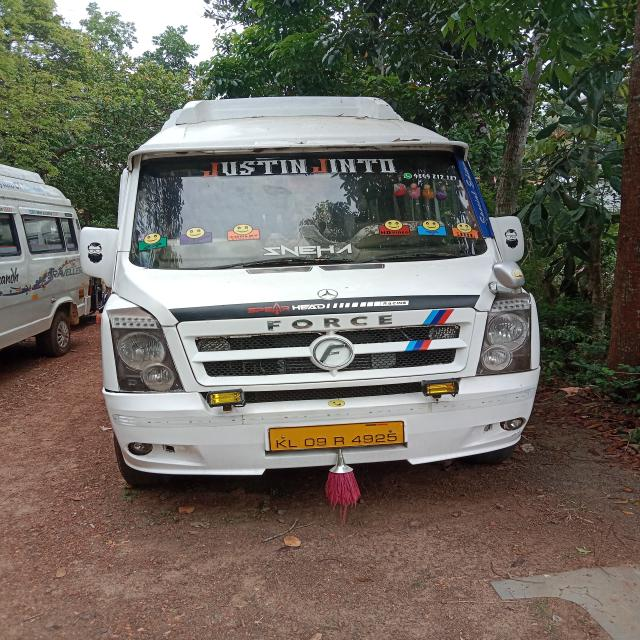Traveller: (0, 96, 540, 485)
